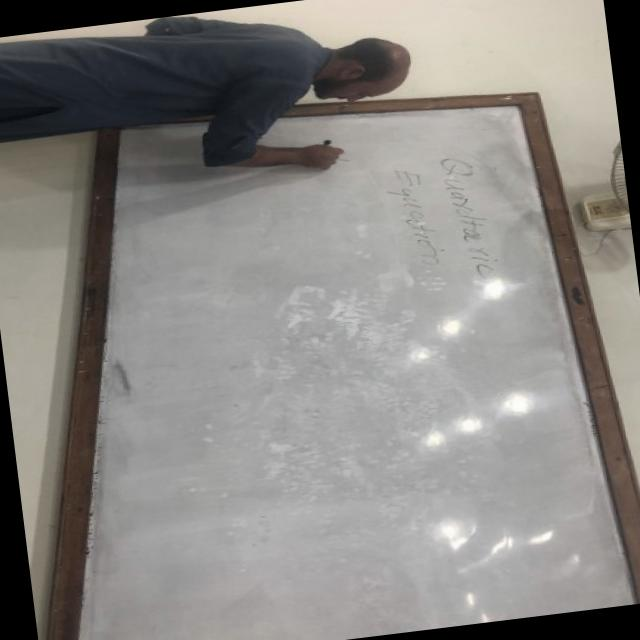Instructor: (0, 11, 421, 161)
White-board: (46, 103, 640, 640)
